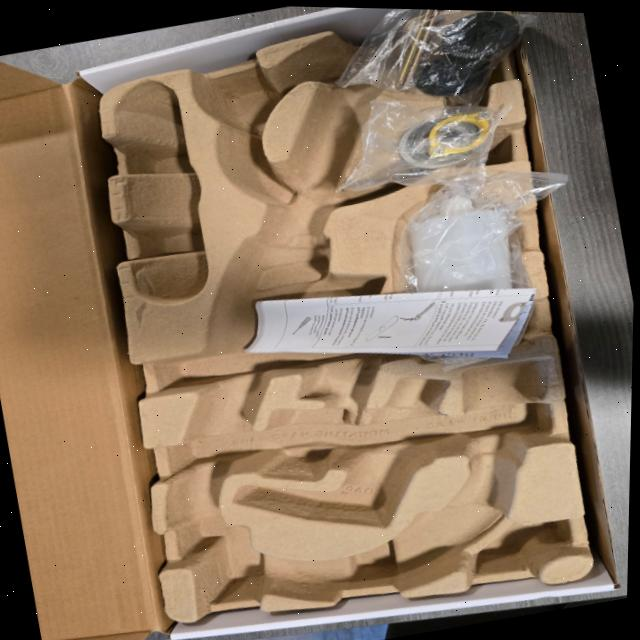1m: (178, 24, 545, 601)
2m: (230, 379, 456, 527)
3o: (407, 171, 530, 366)
4m: (116, 81, 205, 305)
5m: (199, 73, 276, 131)
6: (335, 97, 511, 199)
7: (333, 9, 542, 103)
8: (240, 284, 542, 359)
